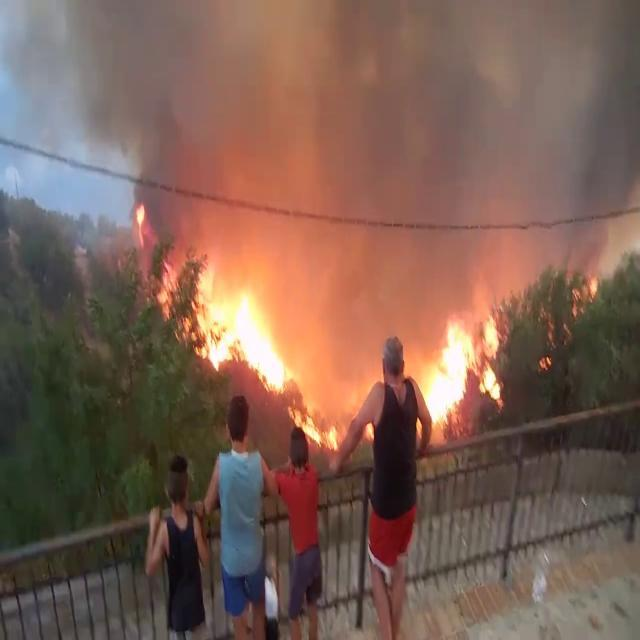Fire: (188, 267, 298, 393), (416, 308, 504, 431), (294, 389, 340, 456)
Smoke: (69, 1, 638, 294)
